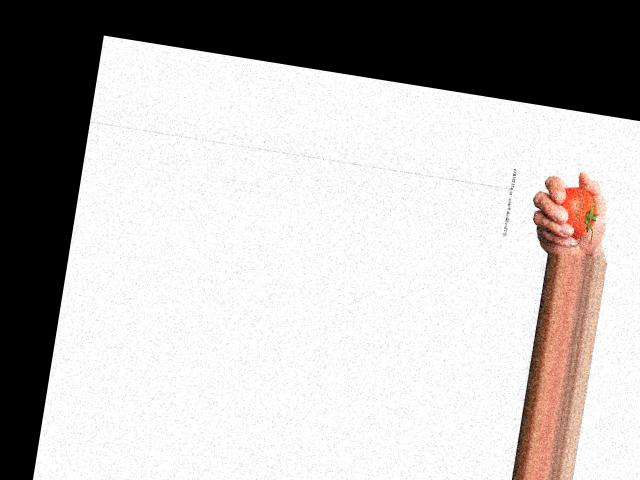tomato: (557, 184, 599, 240)
